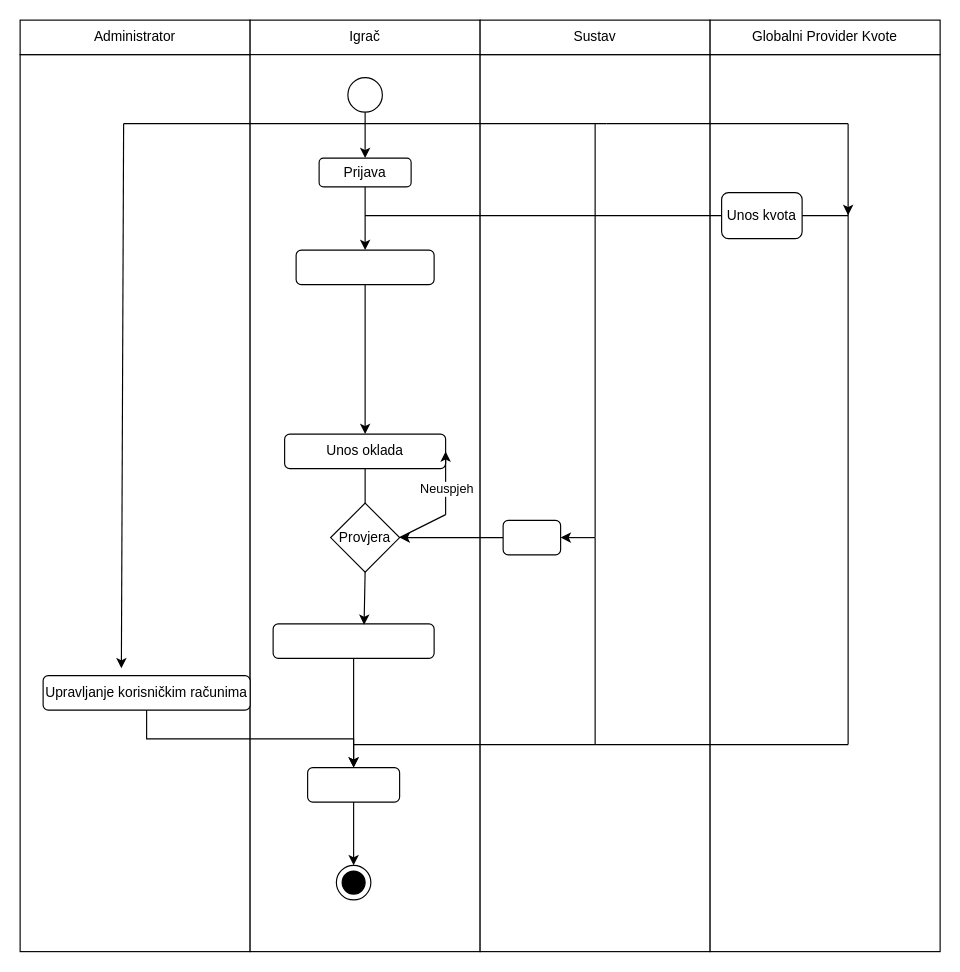
The diagram is 960 pixels wide and 972 high, and some of its shapes have lost their labels. The centre of each missing label's shape, as x and y in pixels:
"Odjava" goes at (x=353, y=784).
"Pregled kvota" goes at (x=364, y=267).
"Pregled povijesti oklada" goes at (x=353, y=640).
"Provjera walleta" goes at (x=531, y=537).
